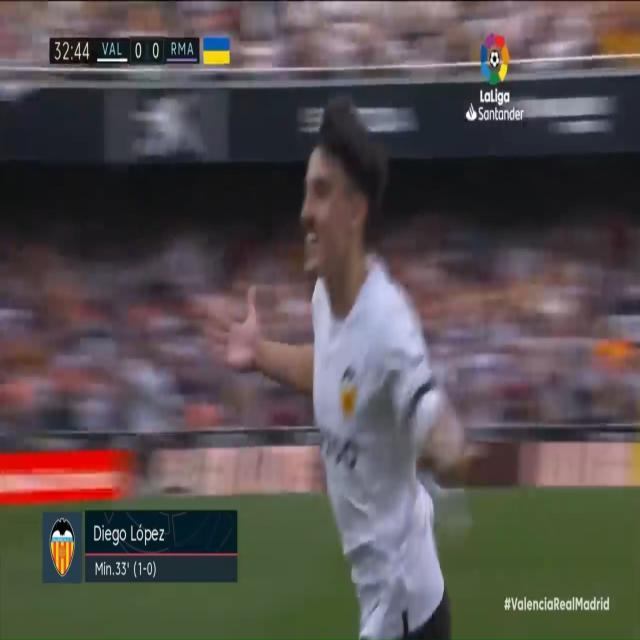player: (223, 74, 479, 640)
